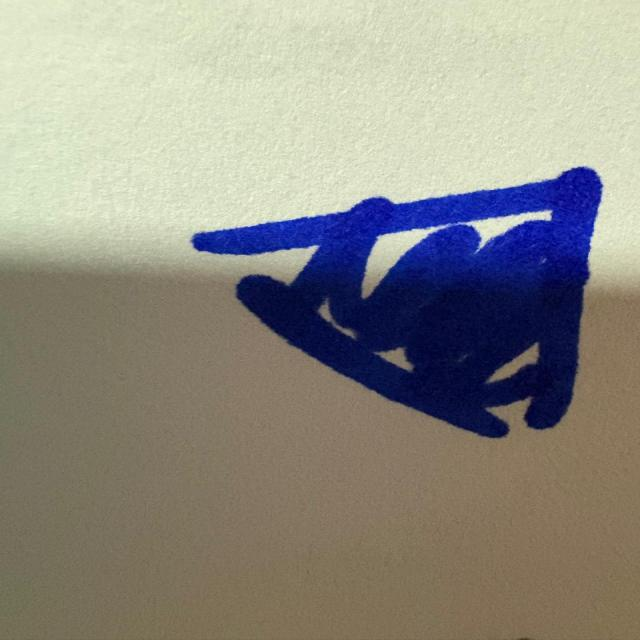Triangle: (181, 164, 620, 453)
